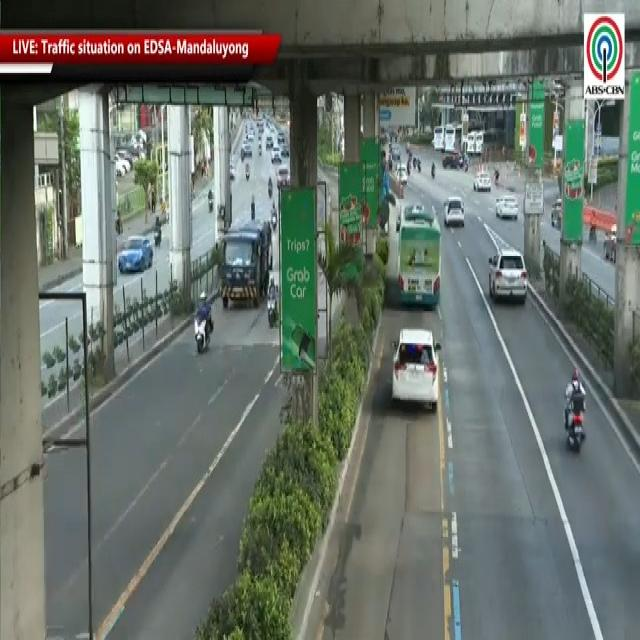car: (391, 325, 450, 417), (486, 242, 531, 310), (110, 228, 160, 278), (443, 193, 472, 242), (493, 193, 518, 217), (474, 170, 494, 198)
motorbike: (559, 348, 589, 469), (261, 268, 284, 338), (192, 285, 212, 359)
truck: (212, 216, 277, 316)
